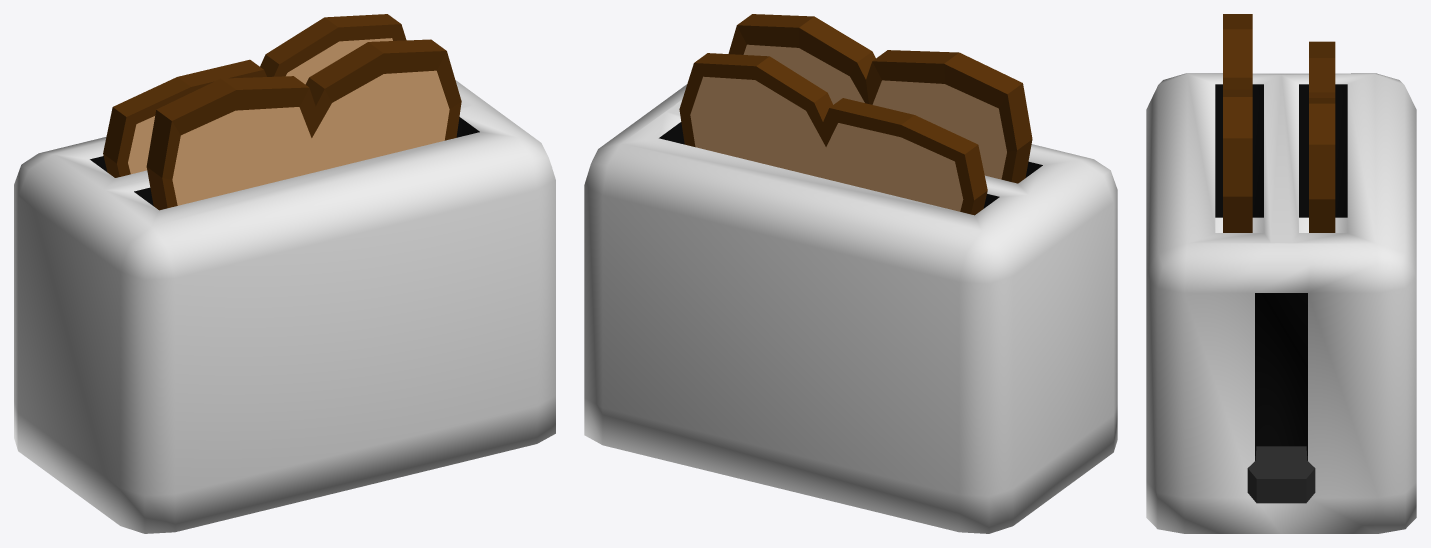
The model's file is Toaster.fbx.
3 views of the same model, side by side, from view 1: azimuth 30°, elevation 25°; view 2: azimuth 150°, elevation 25°; view 3: azimuth 270°, elevation 25° (orthographic). The views are drawn at different scales.
Visible parts, largest first — view 1: Toaster; view 2: Toaster; view 3: Toaster.
Part boxes in pixels (x1,y1,x2,y2): Toaster: [14, 14, 555, 533]; Toaster: [584, 14, 1117, 533]; Toaster: [1146, 14, 1416, 533].
Size of the model in its own units: 765 by 602 by 400.
